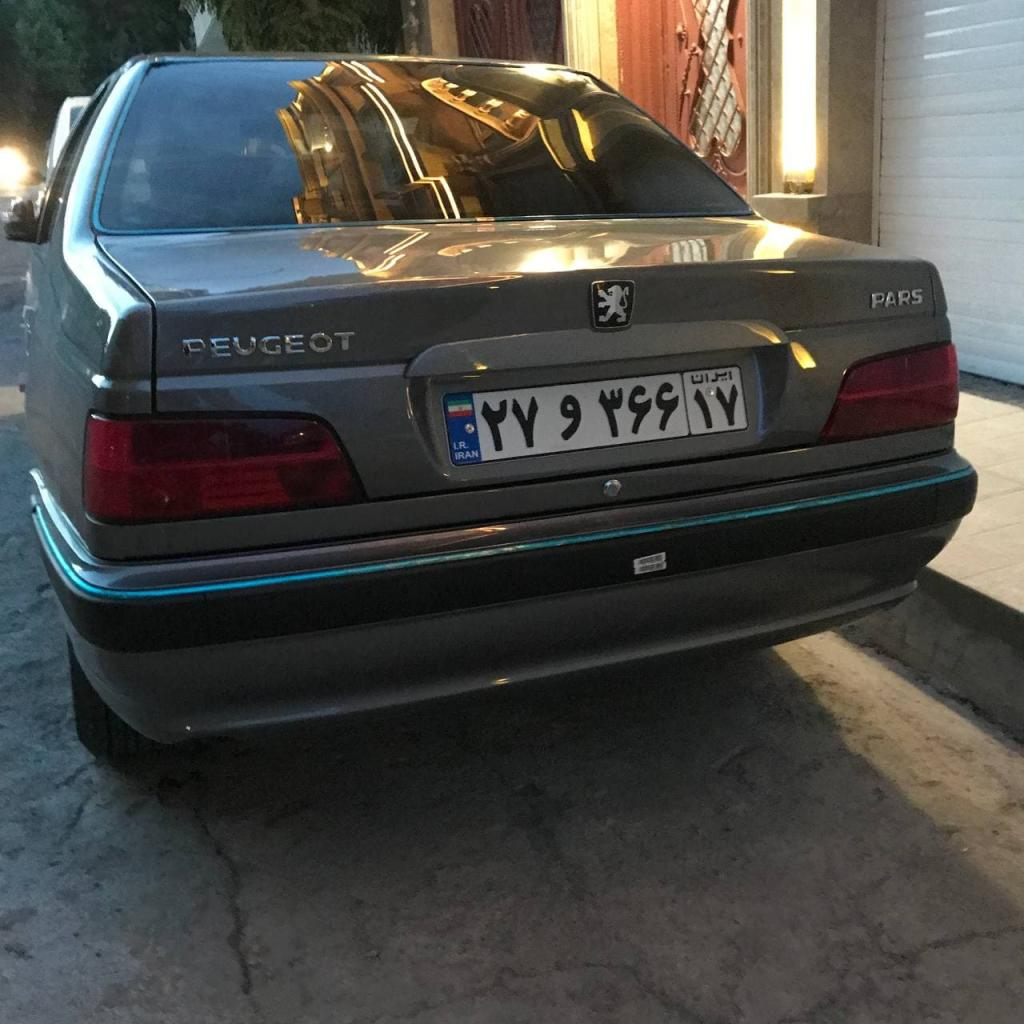Plates: (443, 365, 749, 465)
